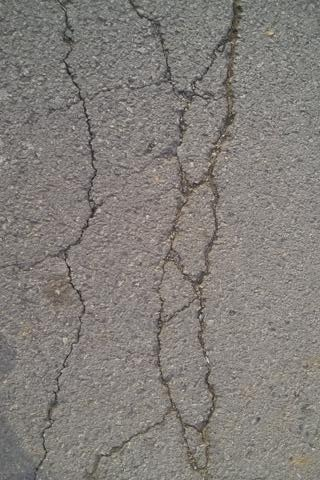A: (106, 3, 249, 477), (32, 1, 102, 480)
